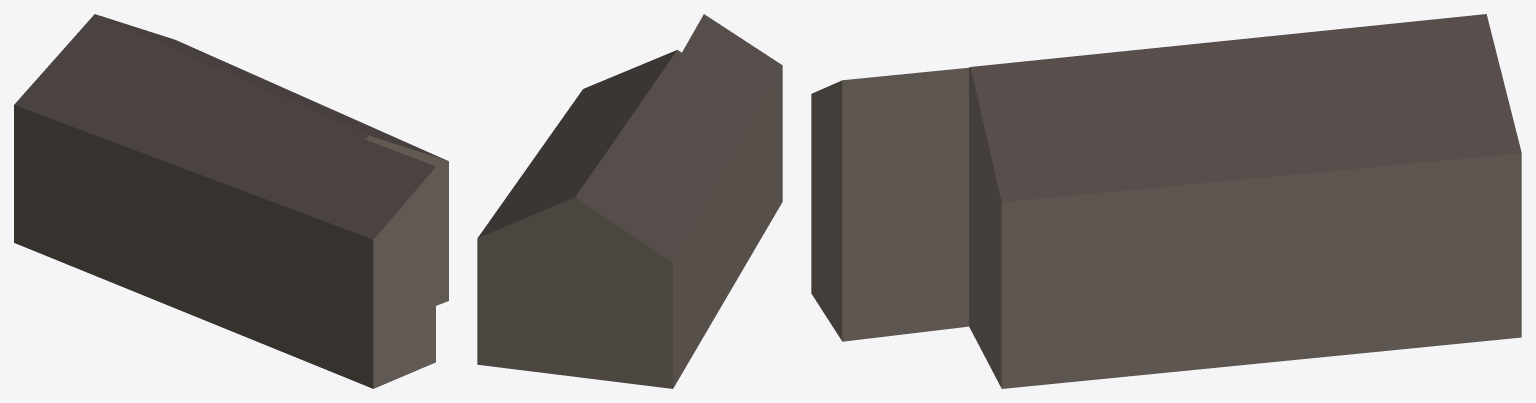
The picture shows the model from 3 angles, left to right: view 1: azimuth 30°, elevation 25°; view 2: azimuth 150°, elevation 25°; view 3: azimuth 270°, elevation 25°; orthographic projection. The views are drawn at different scales.
Visible parts, largest first — view 1: HP-w1198842238; view 2: HP-w1198842238; view 3: HP-w1198842238.
Boxes of the visible parts, left/top/right/bottom form: HP-w1198842238: left=14, top=14, right=448, bottom=388; HP-w1198842238: left=477, top=14, right=782, bottom=388; HP-w1198842238: left=811, top=14, right=1521, bottom=388.
Bounding box in the file's own units: 12.13 × 8.54 × 20.96.
